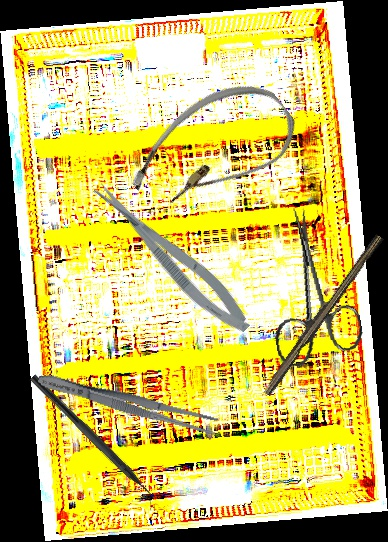Cannula: (116, 60, 309, 241)
Chopper: (20, 373, 165, 514)
Dressing Forceps: (35, 368, 220, 438)
Iris Scissors: (253, 200, 367, 369)
Micro Scissor: (88, 172, 258, 342)
Scalpel Handle: (260, 230, 384, 399)
